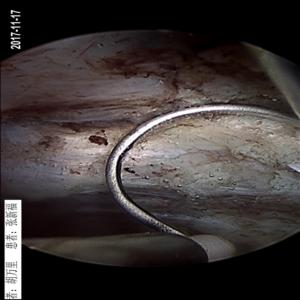film: (18, 181, 296, 237), (8, 91, 255, 136)
